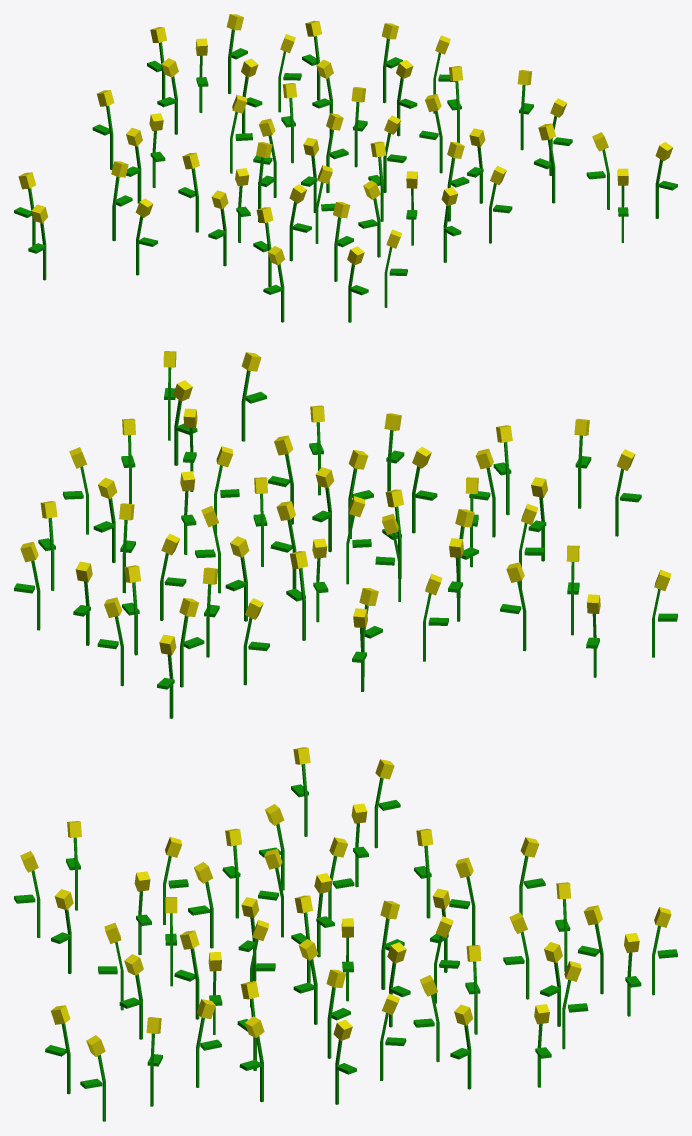
The model's file is Flower.002.fbx.
3 renders of one model, top to bottom at view 1: azimuth 30°, elevation 25°; view 2: azimuth 150°, elevation 25°; view 3: azimuth 270°, elevation 25°, orthographic. The views are drawn at different scales.
Visible parts, largest first — view 1: Flower.003; view 2: Flower.003; view 3: Flower.003.
Part boxes in pixels (x1,y1,x2,y2): Flower.003: [14, 14, 677, 322]; Flower.003: [14, 351, 677, 718]; Flower.003: [14, 747, 677, 1121].
Bounding box in the file's own units: 267 × 38.63 × 248.
